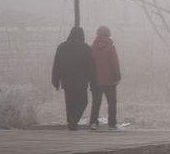person: (51, 25, 93, 130), (87, 26, 123, 129)
